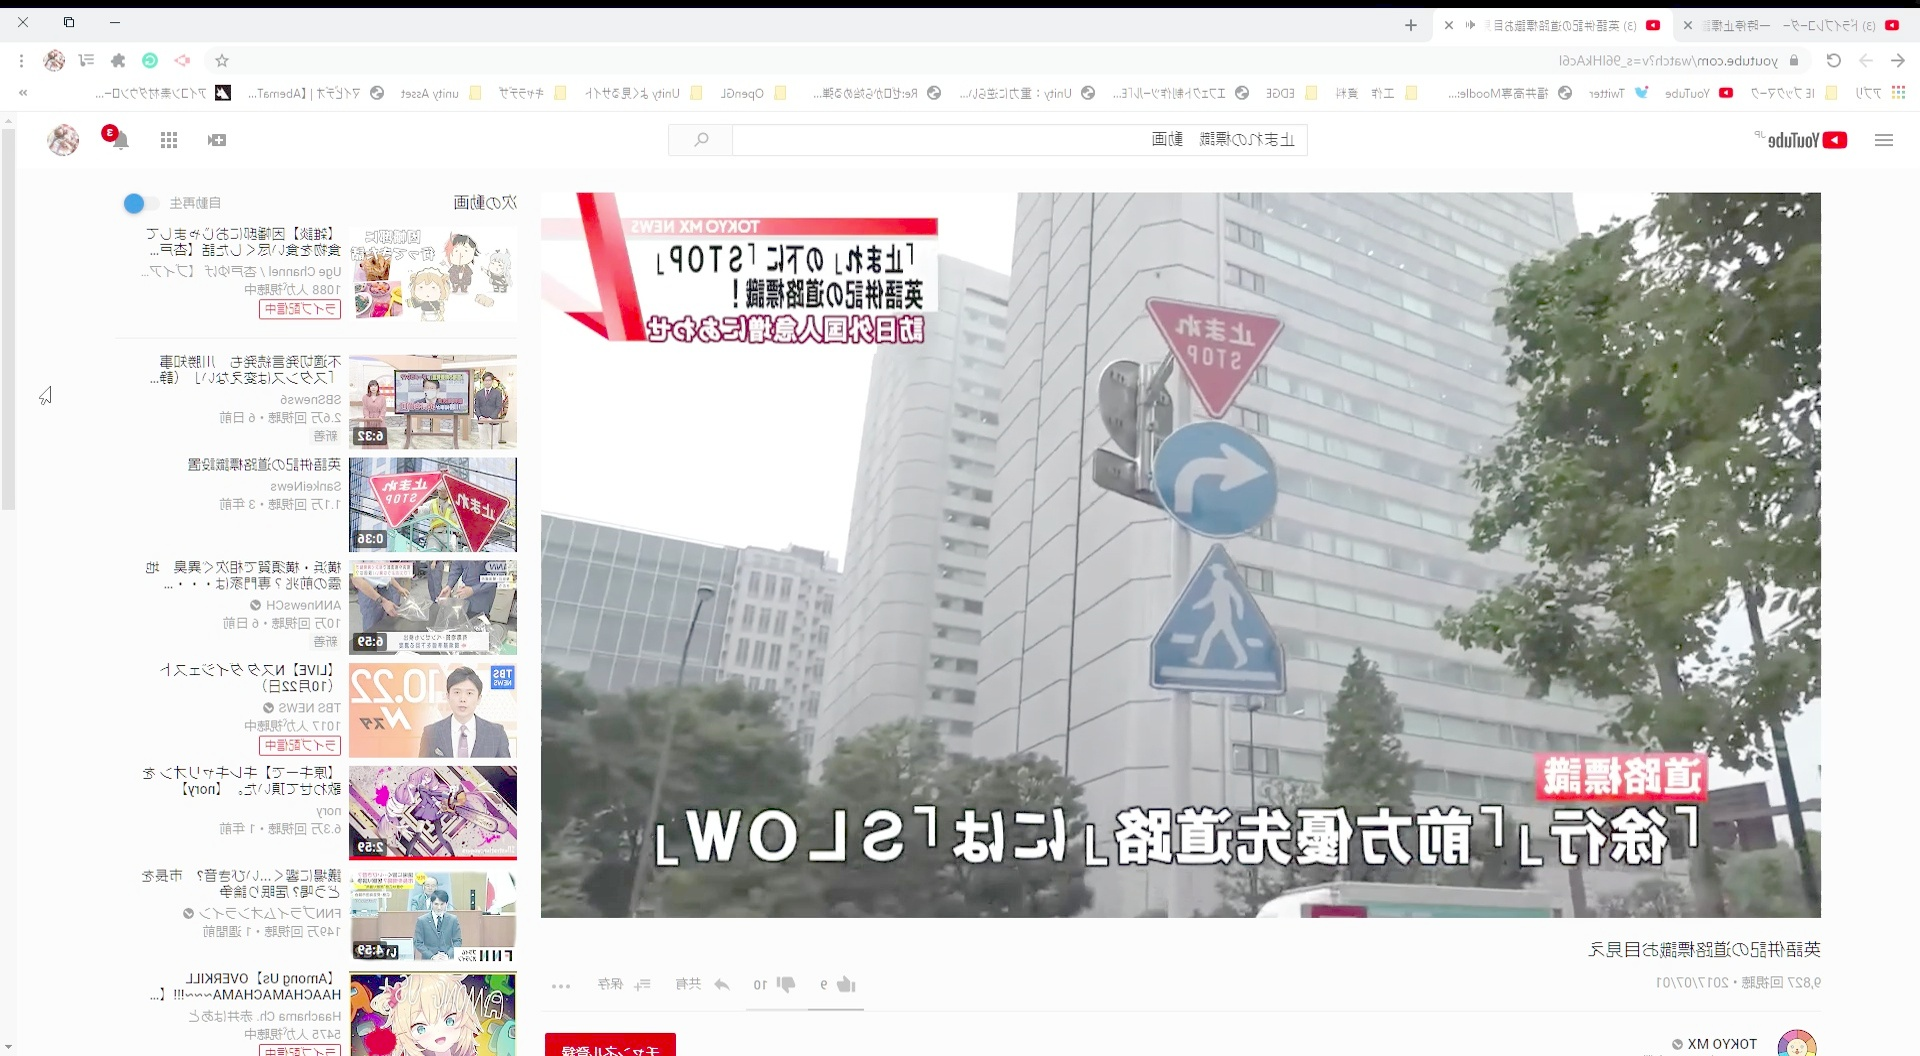Regulatory_sign_triangle: (1137, 285, 1292, 423)
